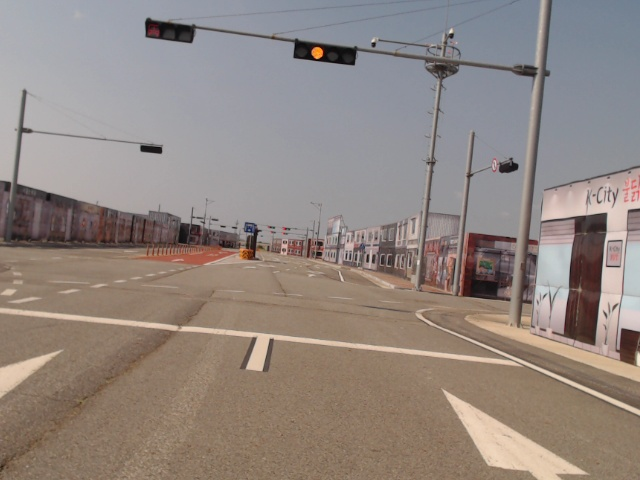orange_4: (293, 40, 358, 66)
